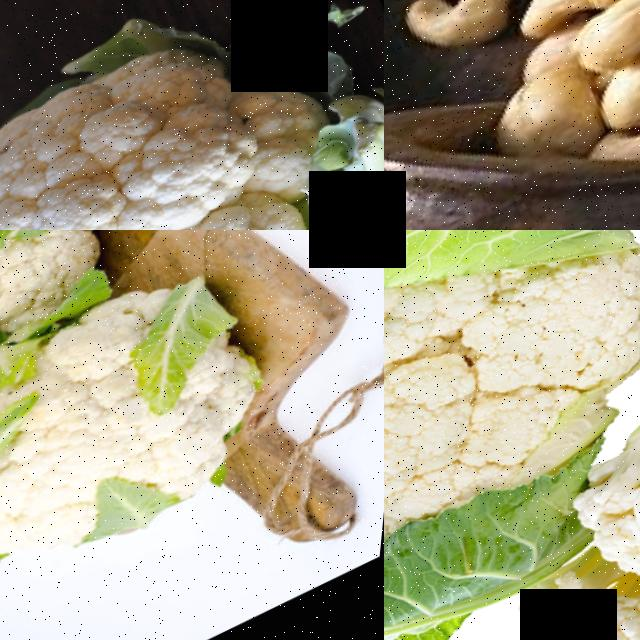cashew: (384, 0, 524, 80), (593, 0, 640, 130), (564, 0, 640, 74)
cauliflower: (0, 230, 347, 638), (384, 230, 640, 635), (0, 0, 384, 230), (0, 230, 194, 470), (547, 288, 640, 576), (556, 534, 640, 640)
